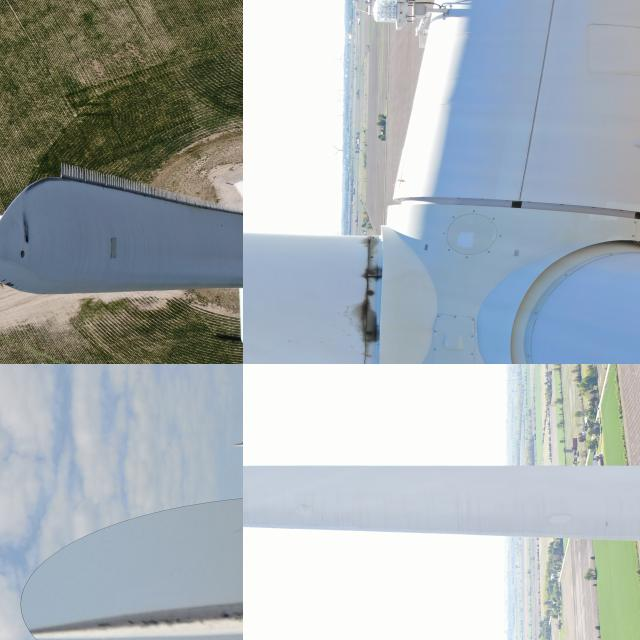damage: (328, 292, 392, 346), (344, 232, 391, 284), (21, 200, 37, 242)
